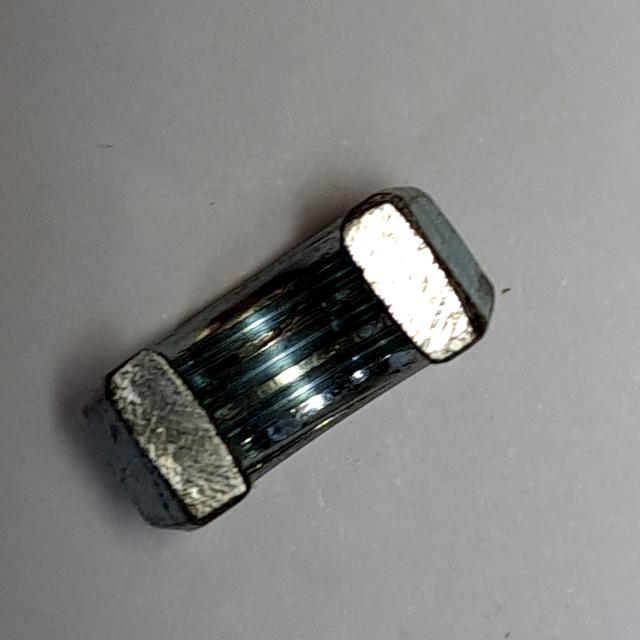Side-Fracture: (64, 162, 510, 548)
